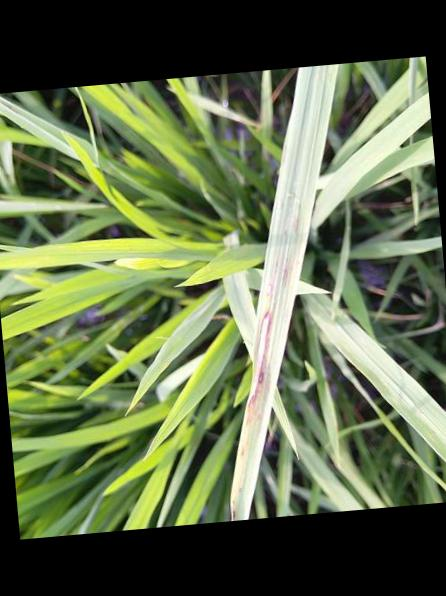Leaf Streak: (230, 245, 289, 521)
